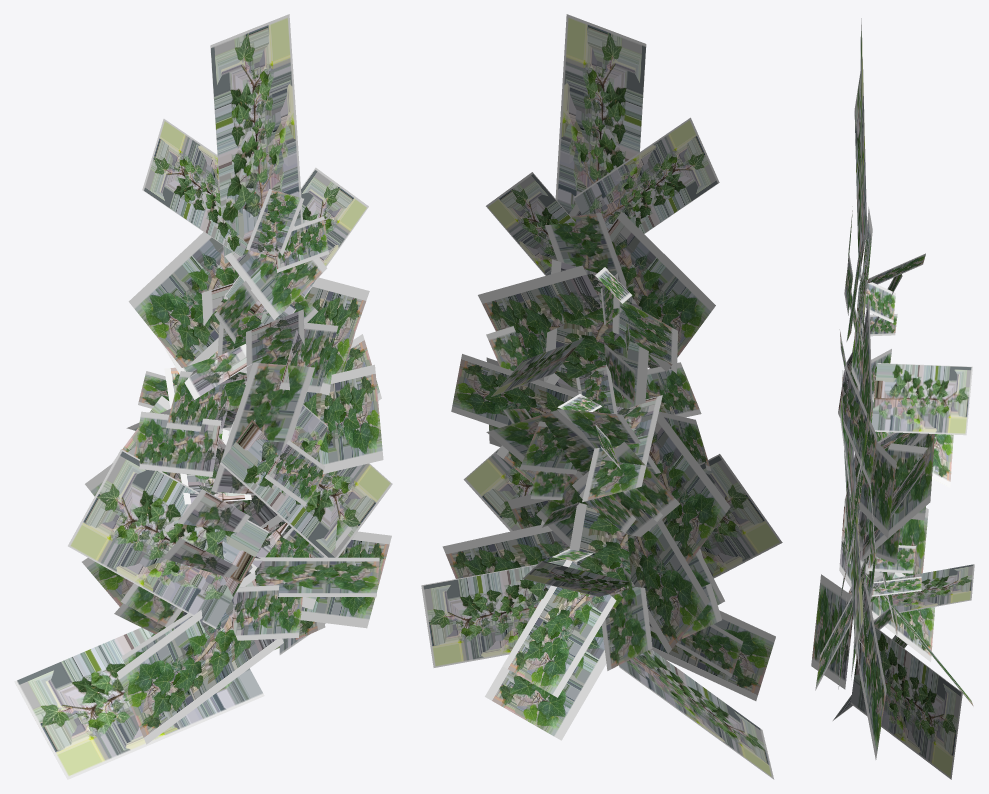
The model's file is Ivy2.fbx.
3 views of the same model, side by side, from view 1: azimuth 30°, elevation 25°; view 2: azimuth 150°, elevation 25°; view 3: azimuth 270°, elevation 25° (orthographic). The views are drawn at different scales.
Visible parts, largest first — view 1: Ivy2; view 2: Ivy2; view 3: Ivy2.
Boxes of the visible parts, left/top/right/bottom form: Ivy2: left=14, top=14, right=392, bottom=779; Ivy2: left=421, top=14, right=782, bottom=779; Ivy2: left=811, top=18, right=974, bottom=779.
Size of the model in its own units: 188 by 367 by 71.97.
